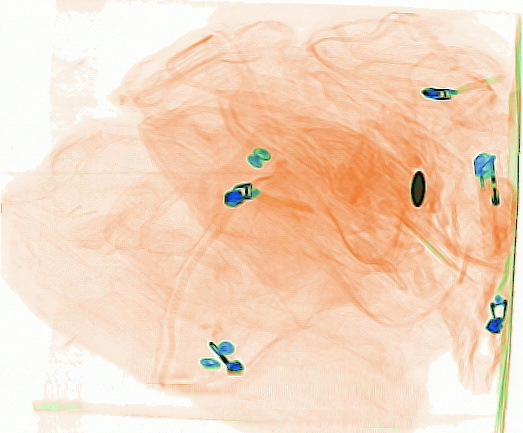lighter: (472, 150, 509, 257)
